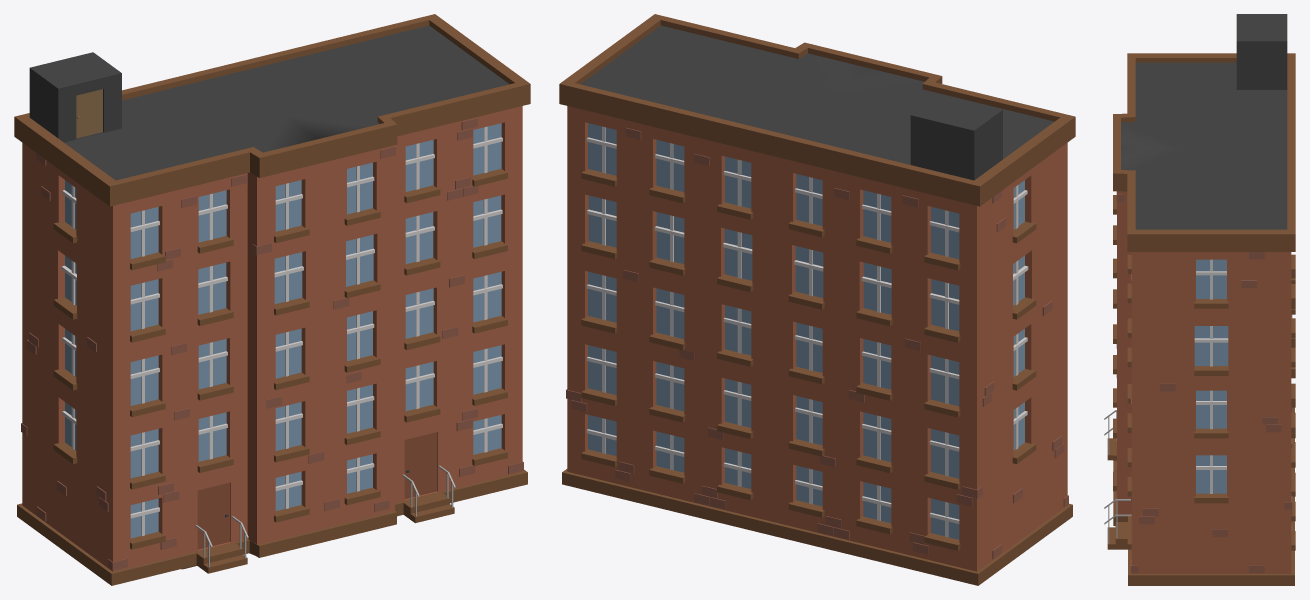
File: Multistory_08.glb
The picture shows the model from 3 angles, left to right: view 1: azimuth 30°, elevation 25°; view 2: azimuth 150°, elevation 25°; view 3: azimuth 270°, elevation 25°; orthographic projection. The views are drawn at different scales.
Parts seen in each view (by area): view 1: House_08; view 2: House_08; view 3: House_08.
Boxes of the visible parts, <box> form: House_08: <box>14,14,530,585</box>; House_08: <box>559,14,1075,585</box>; House_08: <box>1104,14,1295,585</box>.
Bounding box in the file's own units: 14.07 × 14.41 × 6.3.
Materials: 1 (1 with a texture image).
